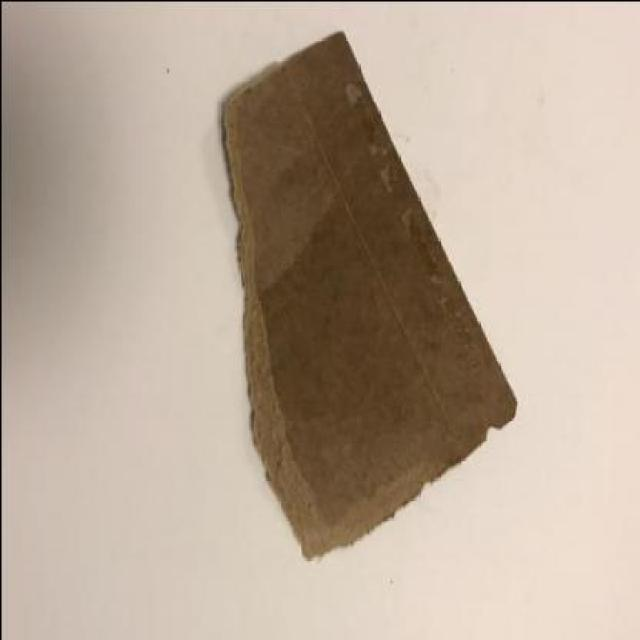CARDBOARD: (219, 27, 518, 556)
